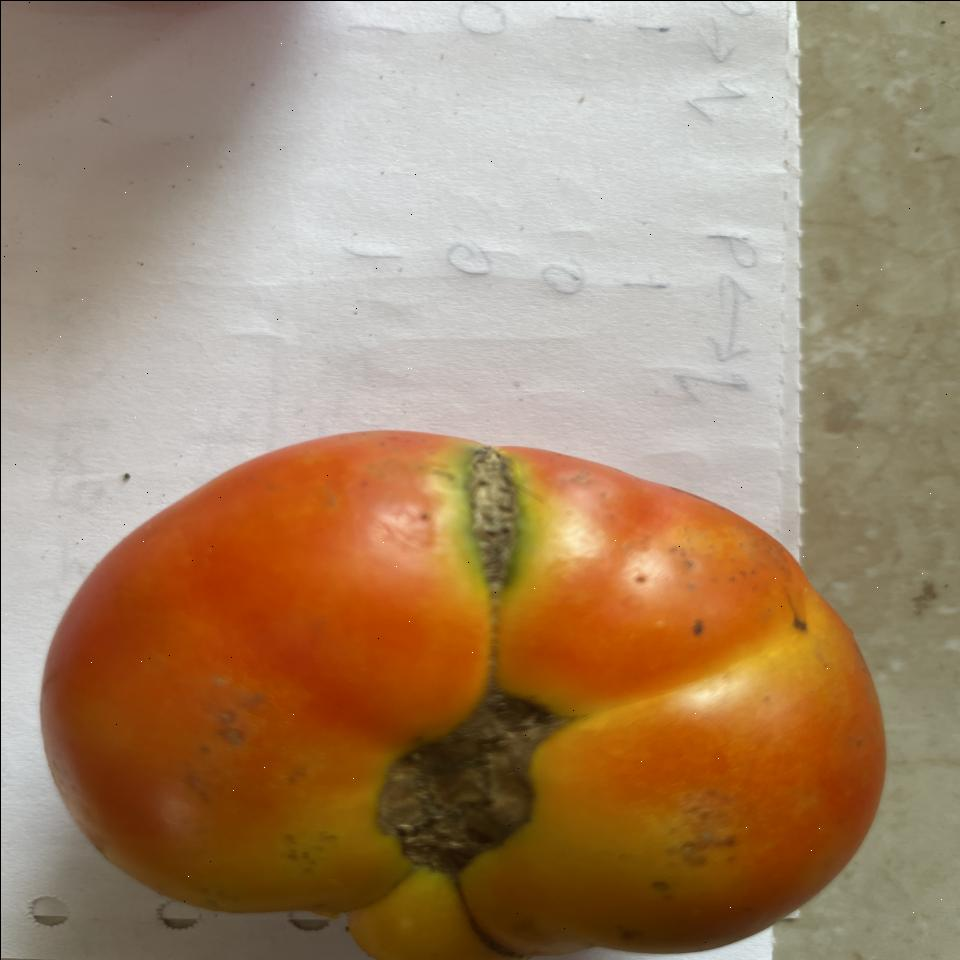Cracking: (451, 456, 535, 582)
